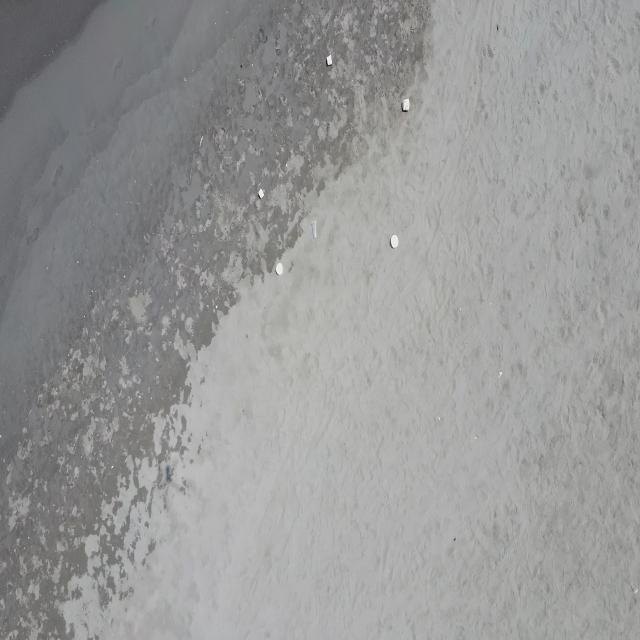take-away-containers: (402, 96, 410, 113), (390, 234, 399, 249), (275, 263, 284, 276), (258, 187, 265, 201), (326, 53, 333, 66)
takeaway-cup: (312, 220, 318, 240)
